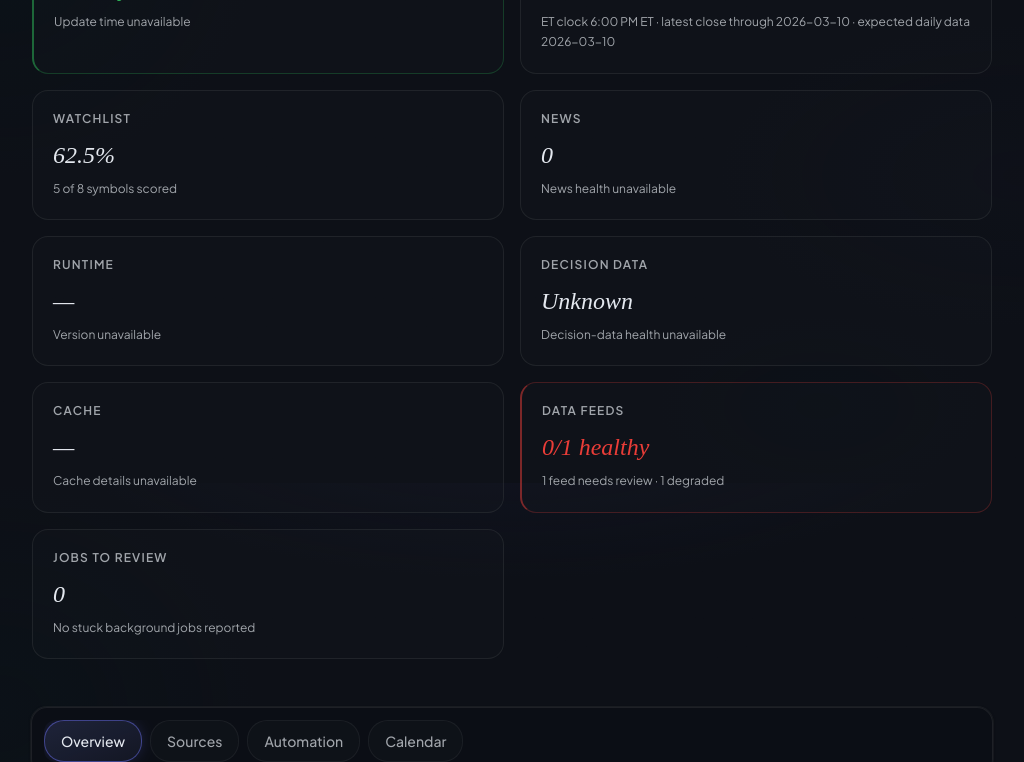
it: StatusWorkspace › uses explicit unavailable copy when status timestamps are missing
(page scrolled)
Expected: the text "Update time unavailable" is shown, left=54, top=14, right=190, bottom=29
Click the tab "Sources". click: [195, 741]
box: left=150, top=720, right=240, bottom=761
(page scrolled)
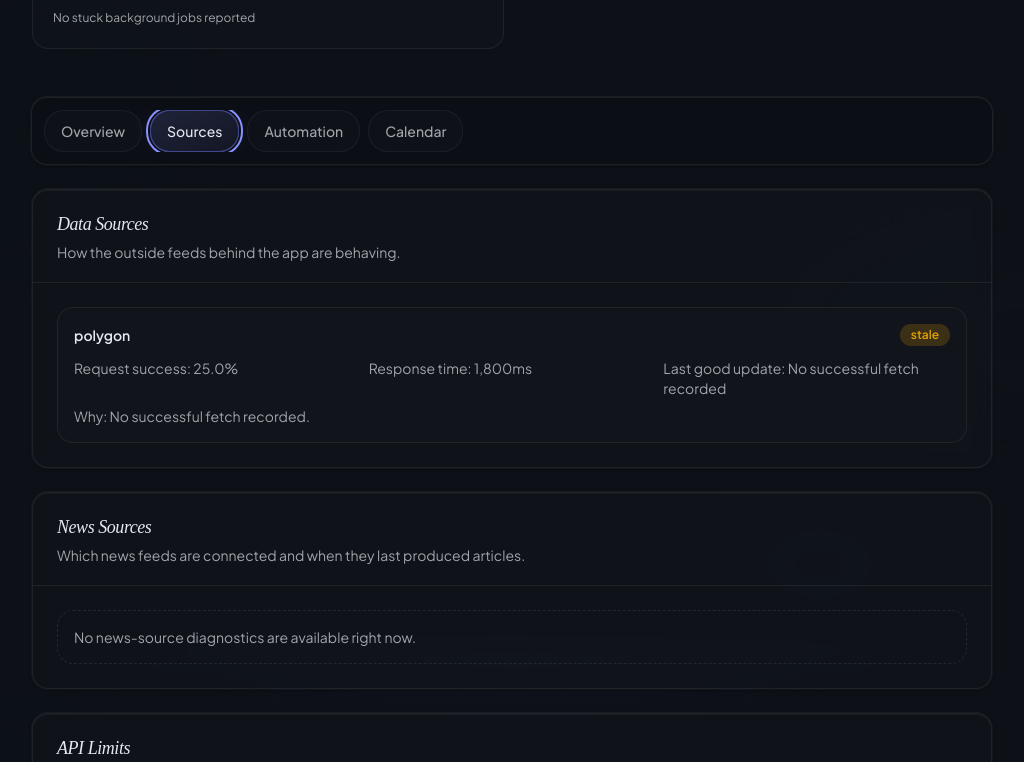
Expected: the text "Why: No successful fetch recorded." is shown, left=74, top=407, right=310, bottom=425
Expected: the text "Last good update: No successful fetch recorded" is shown, left=663, top=358, right=950, bottom=398
